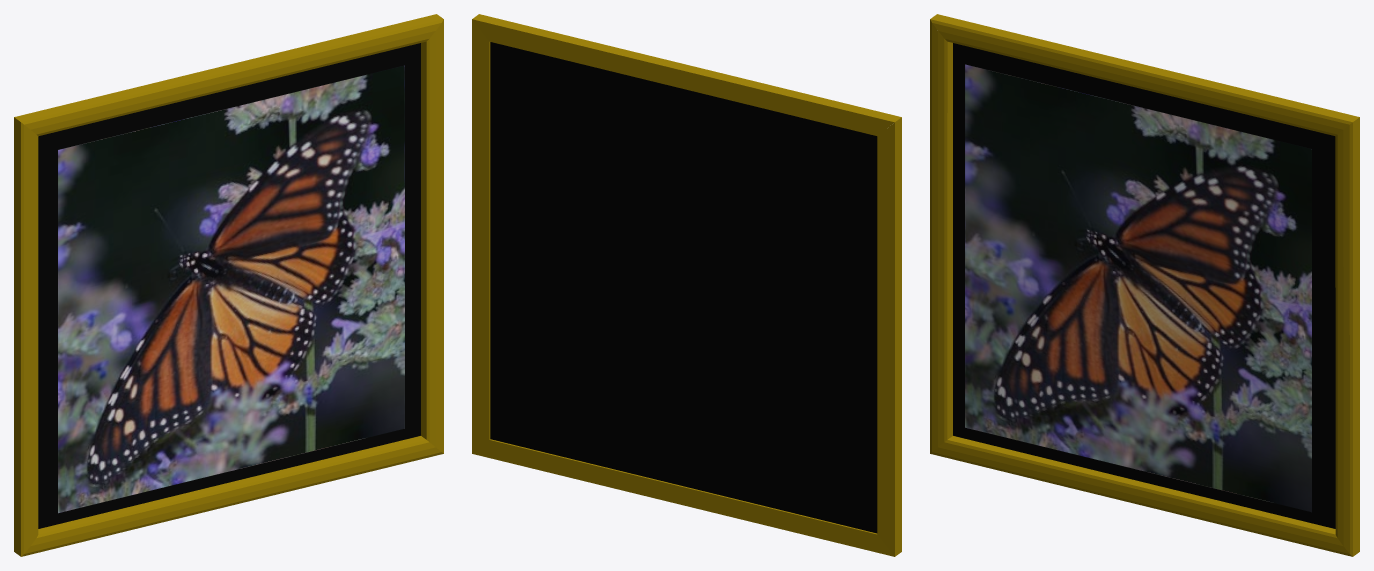
Rendered from sweethome3d-contributions-frame-butterfly.glb.
The picture shows the model from 3 angles, left to right: view 1: azimuth 30°, elevation 25°; view 2: azimuth 150°, elevation 25°; view 3: azimuth 330°, elevation 25°; orthographic projection.
Parts seen in each view (by area): view 1: Photo_Cube_Material_Butterfly.jpg, WoodFrame_Cylinder_Wood, Frame_Black_Material.000; view 2: Frame_Black_Material.000, WoodFrame_Cylinder_Wood; view 3: Photo_Cube_Material_Butterfly.jpg, WoodFrame_Cylinder_Wood, Frame_Black_Material.000.
Boxes of the visible parts, <box> form: Photo_Cube_Material_Butterfly.jpg: <box>58,65,404,513</box>; WoodFrame_Cylinder_Wood: <box>14,14,443,556</box>; Frame_Black_Material.000: <box>38,43,420,528</box>; Frame_Black_Material.000: <box>490,42,877,533</box>; WoodFrame_Cylinder_Wood: <box>472,14,901,556</box>; Photo_Cube_Material_Butterfly.jpg: <box>965,64,1311,512</box>; WoodFrame_Cylinder_Wood: <box>930,14,1359,556</box>; Frame_Black_Material.000: <box>953,43,1335,528</box>.
Bounding box in the file's own units: 48.72 × 47.86 × 1.6.
3 materials, 1 textured.
